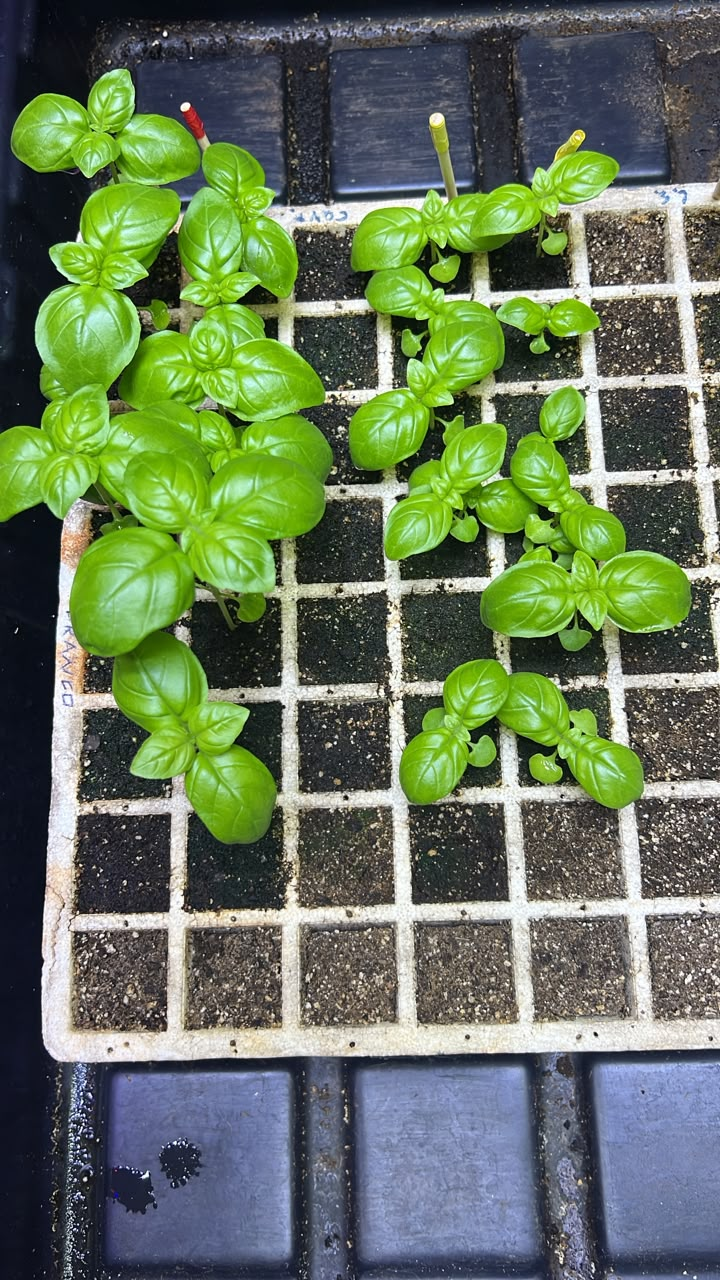Folha: (370, 410, 632, 567), (382, 129, 628, 269), (471, 505, 697, 654), (409, 655, 581, 708), (346, 204, 415, 271), (304, 416, 336, 536), (292, 338, 327, 415), (544, 295, 602, 338), (535, 383, 590, 415), (527, 752, 563, 785), (235, 591, 267, 623), (568, 707, 599, 738), (469, 734, 498, 767), (400, 328, 421, 356)
Germinacao: (373, 124, 637, 274), (462, 500, 706, 659), (391, 653, 624, 814), (163, 584, 293, 703), (351, 395, 459, 505), (380, 262, 415, 415), (529, 383, 590, 415), (626, 410, 660, 449)
